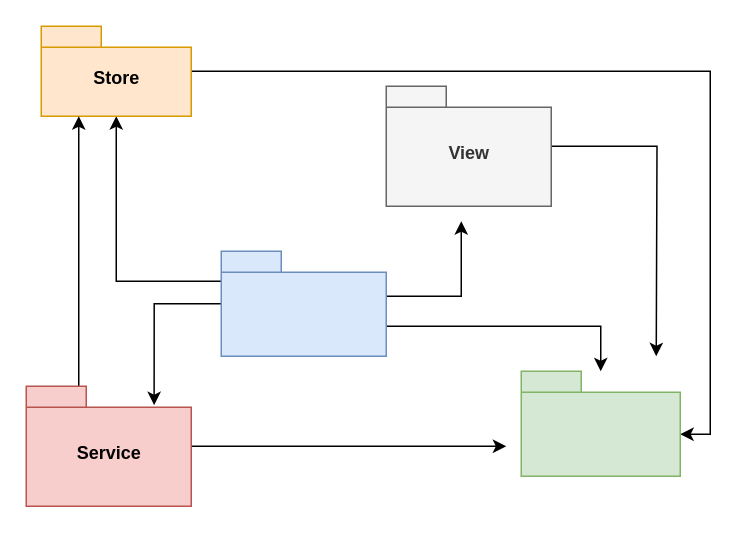
This 749x533 diagram has some shape labels left out. Each missing label, with the centre of its shape:
"main.go" goes at point (303, 303).
"Model" goes at point (600, 423).
